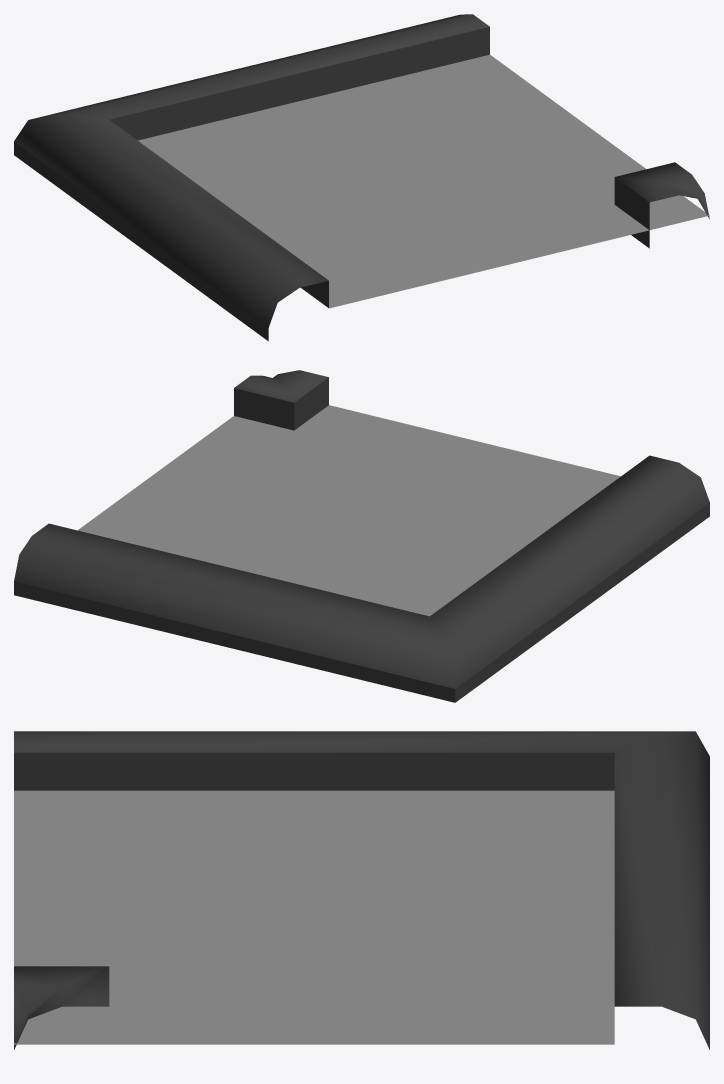
3 renders of one model, top to bottom at view 1: azimuth 30°, elevation 25°; view 2: azimuth 150°, elevation 25°; view 3: azimuth 270°, elevation 25°, orthographic. The views are drawn at different scales.
Visible parts, largest first — view 1: Tilepath B 2 Connections Corner; view 2: Tilepath B 2 Connections Corner; view 3: Tilepath B 2 Connections Corner.
Boxes of the visible parts, box(x1,y1,x2,y2) form: Tilepath B 2 Connections Corner: box(14, 14, 709, 341); Tilepath B 2 Connections Corner: box(14, 370, 709, 702); Tilepath B 2 Connections Corner: box(14, 731, 709, 1049).
Size of the model in its own units: 1 by 0.1001 by 1.
1 material, 1 textured.
